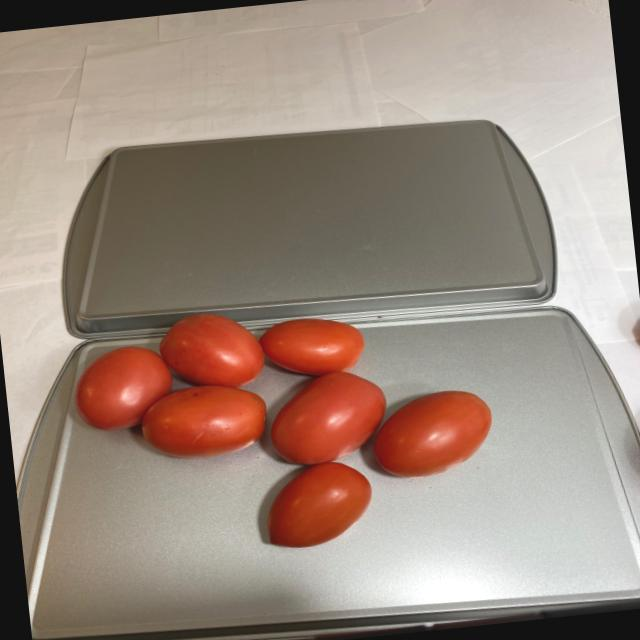tomato: (62, 284, 504, 570)
